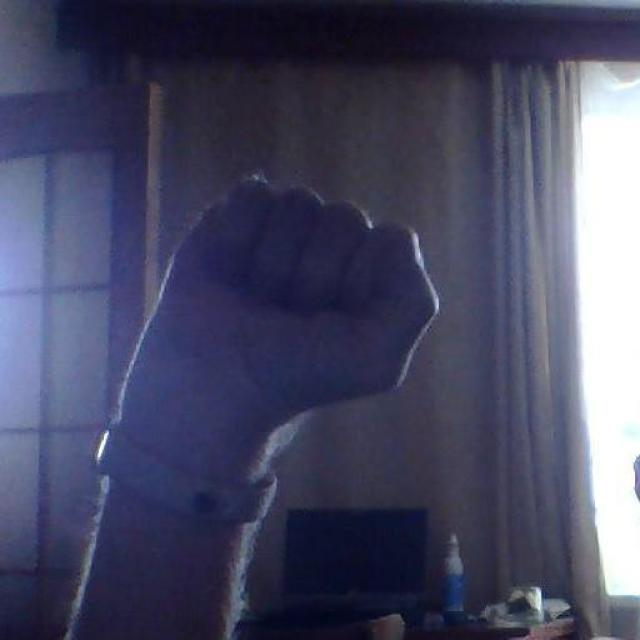hand: (95, 171, 440, 524)
